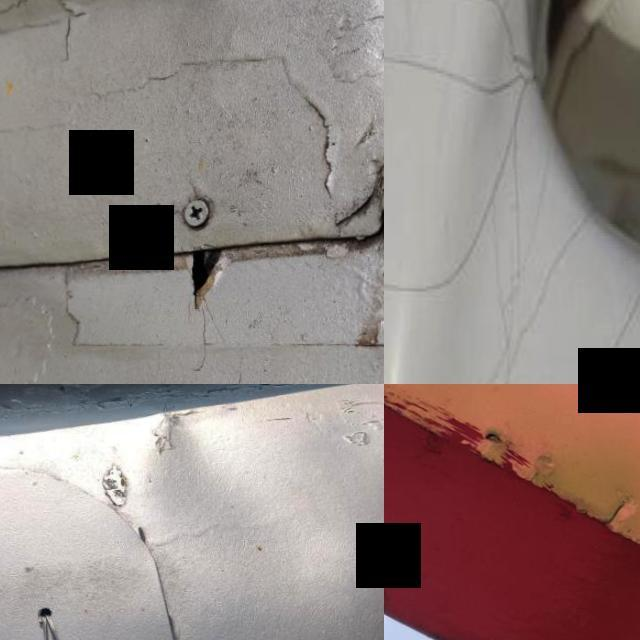Crack: (384, 0, 537, 296), (498, 199, 598, 384), (161, 225, 254, 341), (588, 271, 640, 384), (592, 484, 636, 534)
Dent: (114, 384, 363, 622)
